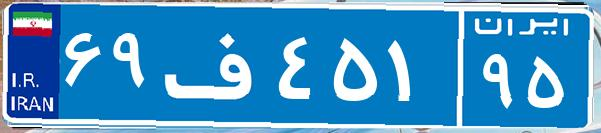1: (385, 28, 445, 110)
4: (273, 28, 330, 110)
5: (330, 28, 385, 110), (525, 38, 570, 115)
6: (57, 26, 110, 107)
9: (475, 38, 525, 113), (110, 28, 158, 105)
ف: (158, 15, 273, 115)
